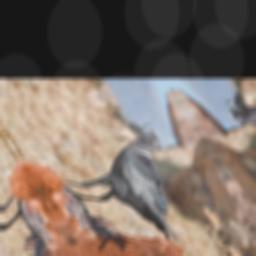Crow: (41, 120, 220, 256)
